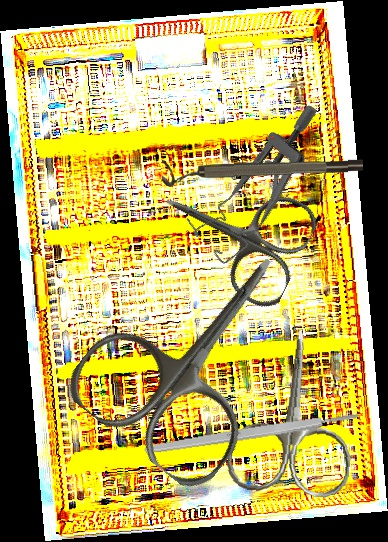Fixation Ring: (161, 156, 364, 187)
Iris Scissors: (58, 207, 340, 498), (142, 148, 324, 315), (224, 323, 364, 500)
Scalpel Handle: (143, 410, 361, 456)
Speculum: (174, 101, 356, 269)
